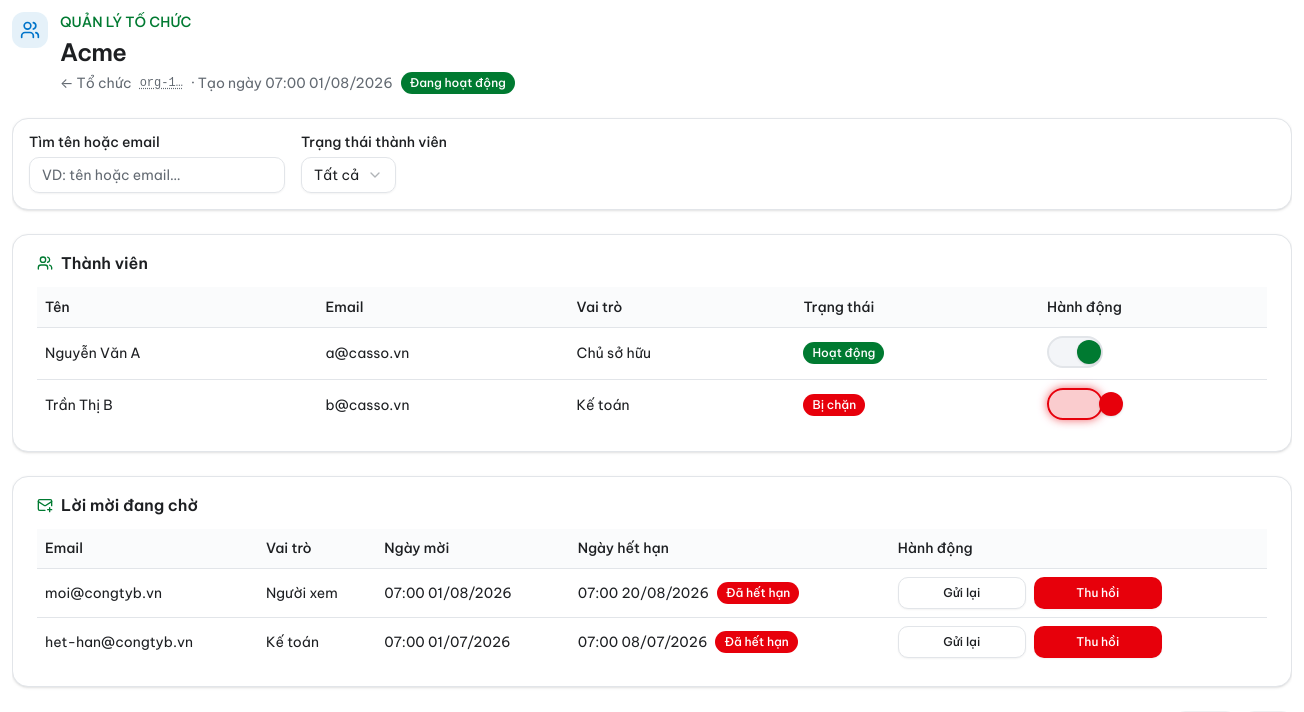
Test: AdminOrganizationMembersPage › pending invites › keeps the cooldown active after a resend rotates the invite id via refetch
Click the button "Gửi lại" in the row of "moi@congtyb.vn": (962, 593) [898, 577, 1026, 609]
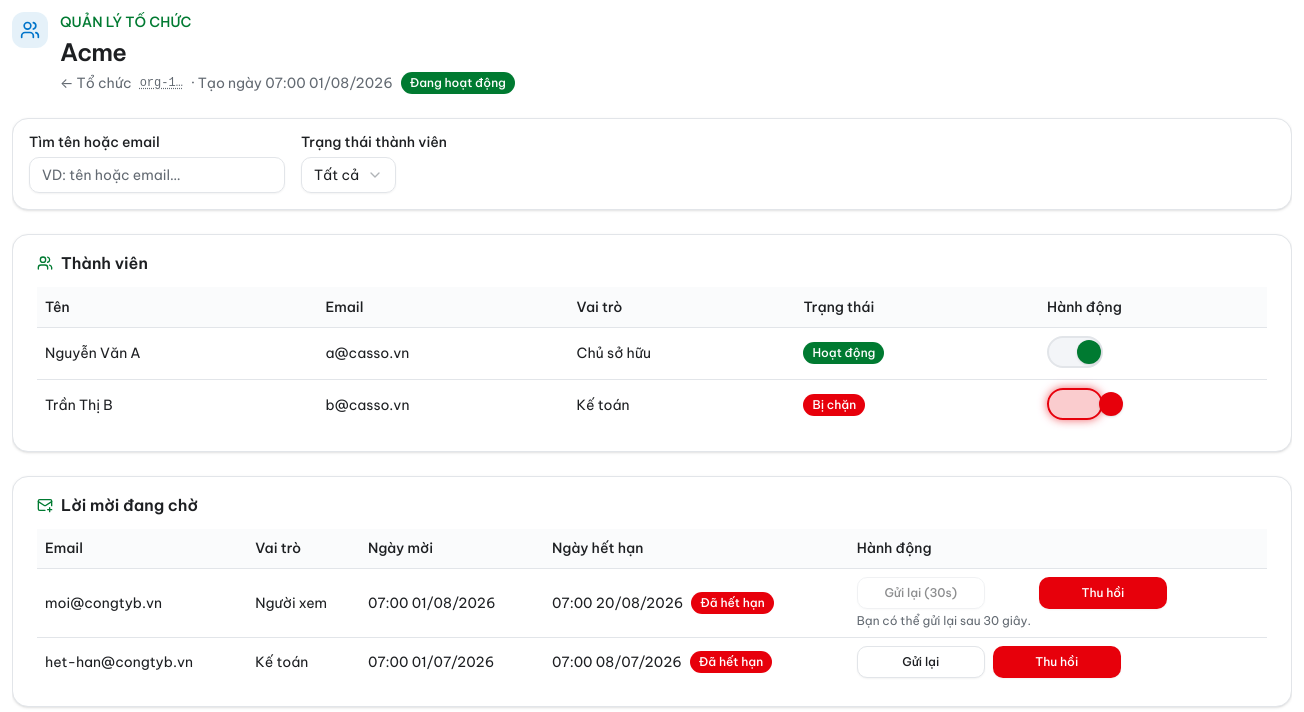
expect the button "Gửi lại (30s)" is disabled: met, box [857, 577, 985, 609]
